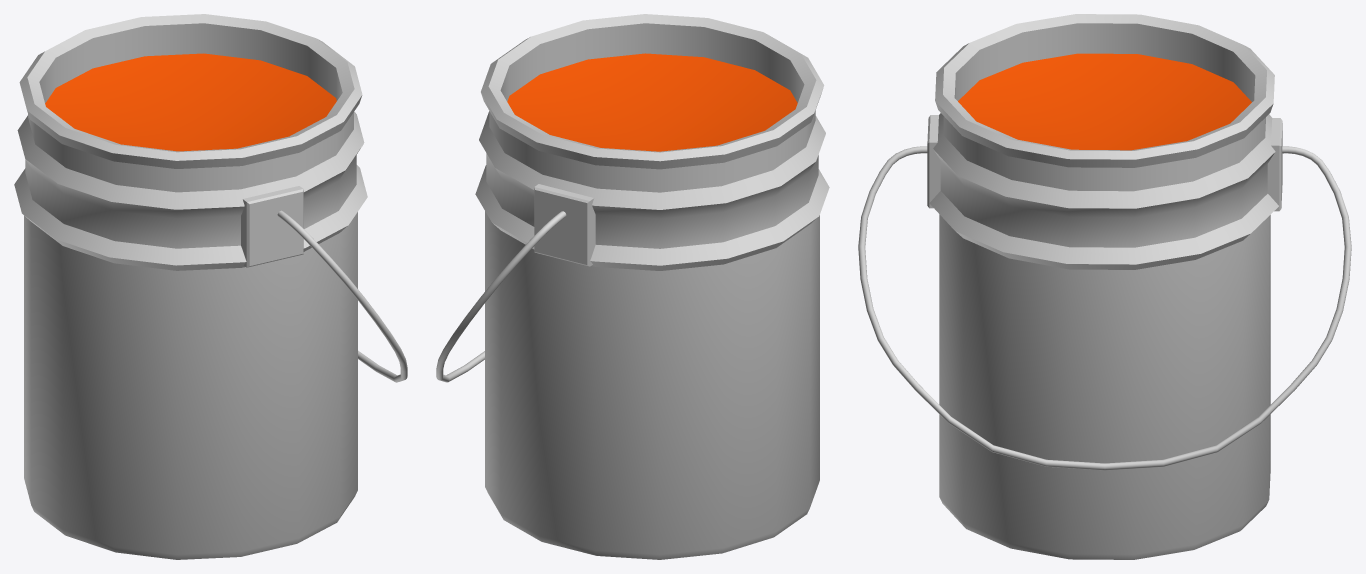
File: painbucket_filled.glb
3 views of the same model, side by side, from view 1: azimuth 30°, elevation 25°; view 2: azimuth 150°, elevation 25°; view 3: azimuth 270°, elevation 25° (orthographic).
Visible parts, largest first — view 1: Circle; view 2: Circle; view 3: Circle.
Boxes of the visible parts, x1,y1,x2,y2 form: Circle: (14, 14, 407, 559); Circle: (436, 14, 829, 559); Circle: (858, 14, 1351, 559).
Size of the model in its own units: 2.16 by 2.7 by 2.93.
